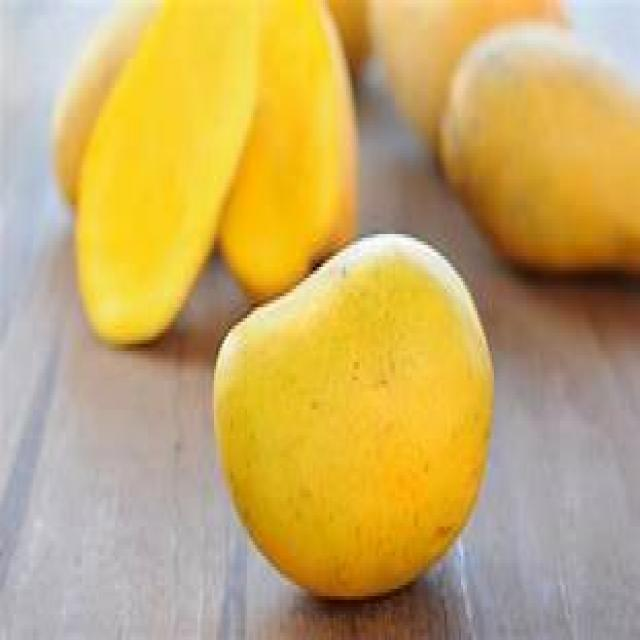mango: (213, 229, 497, 610)
